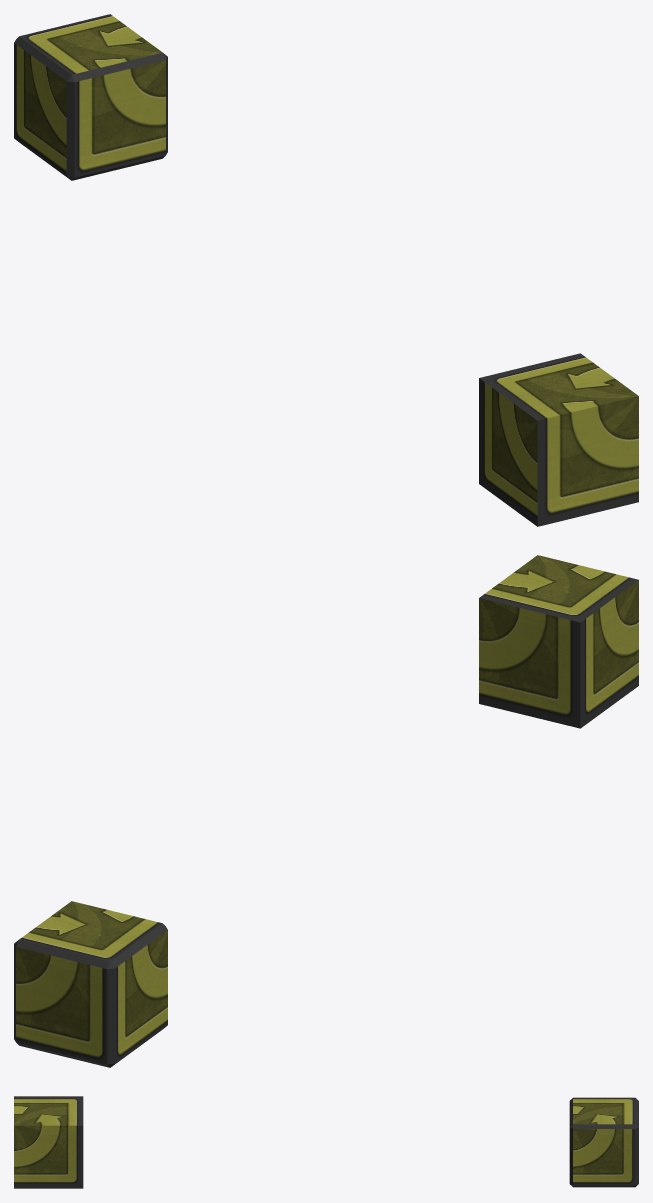
File: insetStep2.outsideCorner.fbx
3 renders of one model, top to bottom at view 1: azimuth 30°, elevation 25°; view 2: azimuth 150°, elevation 25°; view 3: azimuth 270°, elevation 25°, orthographic. The views are drawn at different scales.
Visible parts, largest first — view 1: MESH insetStep2.outsideCorner, MESH insetStep2.outsideCorner.c; view 2: MESH insetStep2.outsideCorner, MESH insetStep2.outsideCorner.c; view 3: MESH insetStep2.outsideCorner, MESH insetStep2.outsideCorner.c.
Part boxes in pixels (x1,y1,x2,y2): MESH insetStep2.outsideCorner: (479, 353, 638, 526); MESH insetStep2.outsideCorner.c: (14, 14, 167, 180); MESH insetStep2.outsideCorner: (479, 555, 638, 728); MESH insetStep2.outsideCorner.c: (14, 901, 167, 1067); MESH insetStep2.outsideCorner: (14, 1096, 83, 1188); MESH insetStep2.outsideCorner.c: (569, 1097, 638, 1187).
Size of what is drawn, in the model's own units: 50 by 50.01 by 450.
